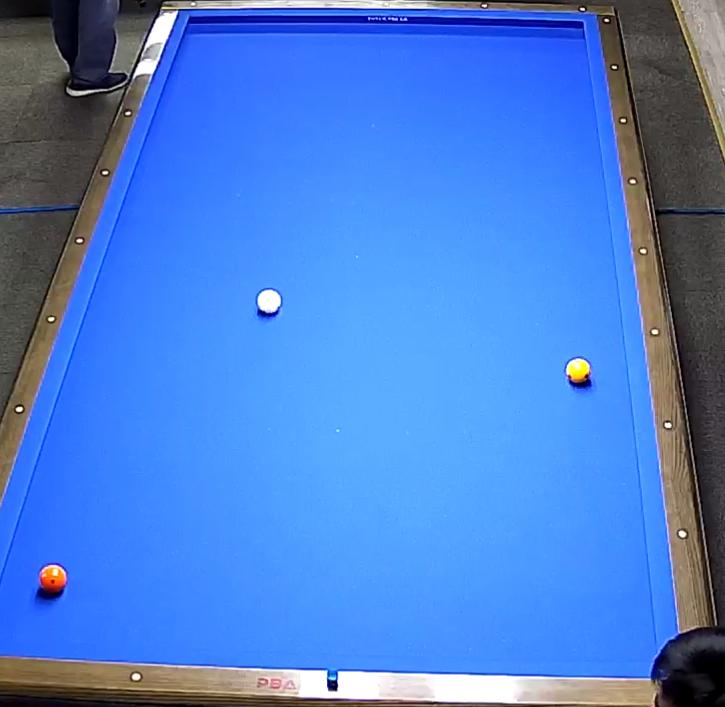orange ball: (31, 555, 73, 606)
white ball: (253, 283, 288, 328)
yellow ball: (557, 351, 597, 394)
